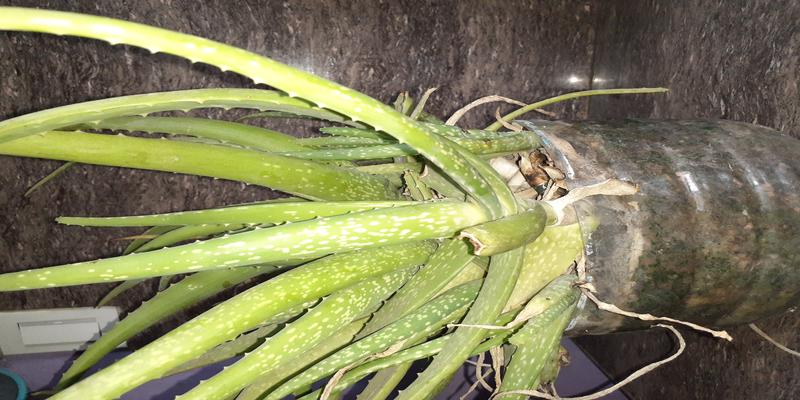Aloevera: (23, 81, 578, 383)
